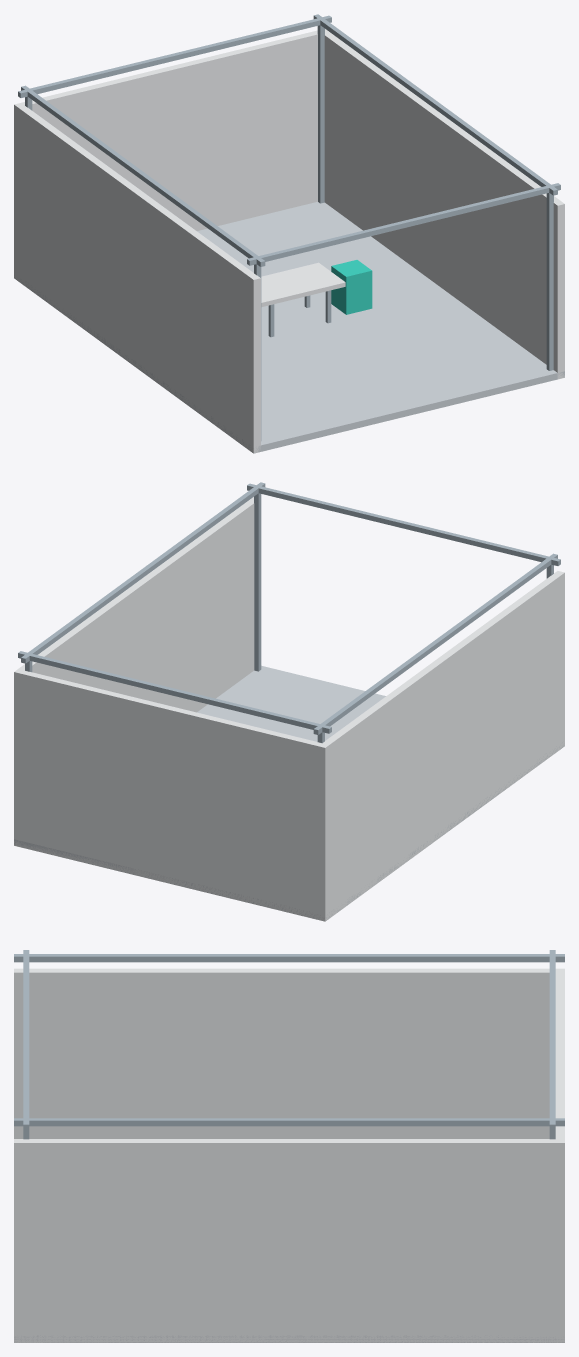
3 views of the same model, one above another, from view 1: azimuth 30°, elevation 25°; view 2: azimuth 150°, elevation 25°; view 3: azimuth 270°, elevation 25° (orthographic). The views are drawn at different scales.
Visible parts, largest first — view 1: Exhibition Booth Concept; view 2: Exhibition Booth Concept; view 3: Exhibition Booth Concept.
Part boxes in pixels (x1,y1,x2,y2): Exhibition Booth Concept: [14, 14, 564, 453]; Exhibition Booth Concept: [14, 482, 564, 921]; Exhibition Booth Concept: [14, 950, 564, 1342].
Size of the model in its own units: 6 by 3.49 by 8.
